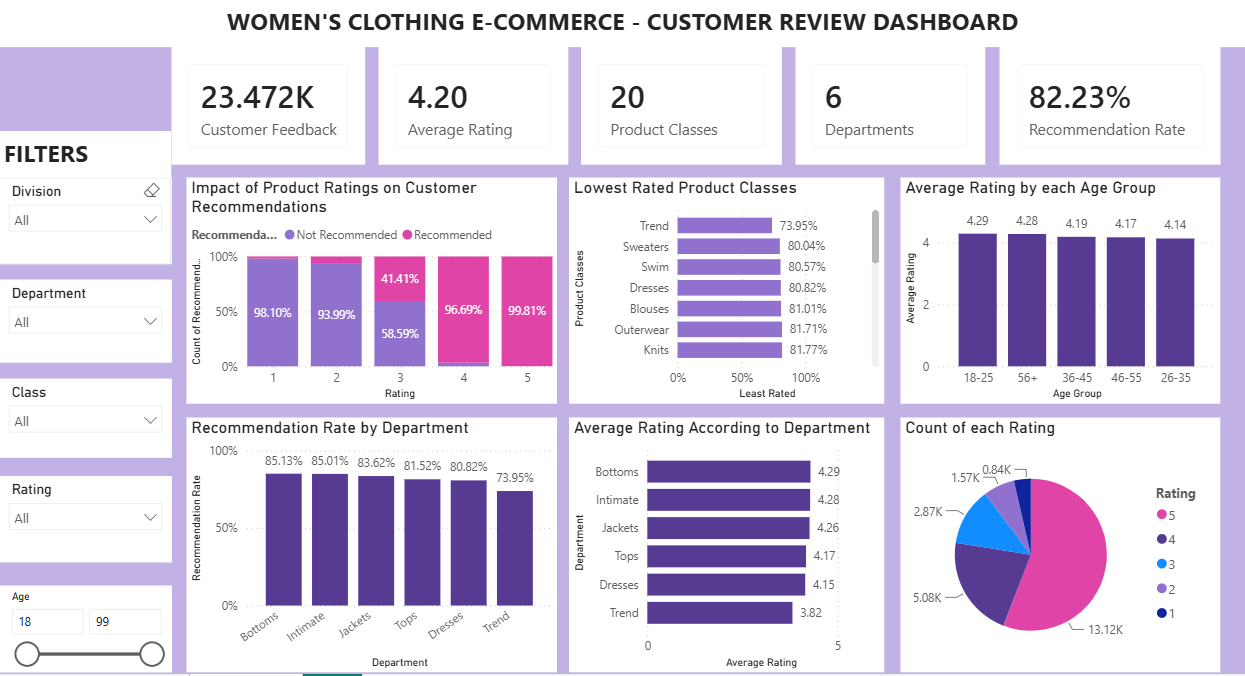

This screenshot's page, from the dashboard's own definition file:
{"tool":"powerbi","page":{"name":"Page 1","canvas":[1280,720],"ordinal":0},"visuals":[{"type":"textbox","box":[0,0,1279.4,49.1],"z":0},{"type":"cardVisual","fields":{"Data":["CLEANED DATA.Recommendation Rate"]},"box":[1026.1,49.1,226.8,120.9],"z":1000},{"type":"cardVisual","fields":{"Data":["Count(CLEANED DATA.S/N)"]},"box":[177.6,49.1,198.4,120.9],"z":2000},{"type":"cardVisual","fields":{"Data":["Count(CLEANED DATA.Department )"]},"box":[816.4,49.1,194.6,120.9],"z":3000},{"type":"cardVisual","fields":{"Data":["Avg(CLEANED DATA.Rating)"]},"box":[389.3,49.1,194.6,120.9],"z":4000},{"type":"cardVisual","fields":{"Data":["Count(CLEANED DATA.Class)"]},"box":[597.2,49.1,206,120.9],"z":5000},{"type":"slicer","fields":{"Values":["CLEANED DATA.Division"]},"box":[0,183.3,177.6,88.8],"z":6000},{"type":"slicer","fields":{"Values":["CLEANED DATA.Department "]},"box":[0,287.2,177.6,85],"z":7000},{"type":"slicer","fields":{"Values":["CLEANED DATA.Class"]},"box":[0,389.3,177.6,81.3],"z":8000},{"type":"slicer","fields":{"Values":["CLEANED DATA.Rating"]},"box":[0,489.5,177.6,88.8],"z":9000},{"type":"slicer","fields":{"Values":["CLEANED DATA.Age"]},"box":[0,600.9,177.6,88.8],"z":10000},{"type":"clusteredBarChart","title":"Average Rating According to Department ","fields":{"Y":["Avg(CLEANED DATA.Rating)"],"Category":["CLEANED DATA.Department "]},"box":[584.6,429.2,323.1,261.5],"z":11000},{"type":"clusteredColumnChart","title":"Average Rating by each Age Group","fields":{"Category":["CLEANED DATA.Age Group"],"Y":["Avg(CLEANED DATA.Rating)"]},"box":[924.6,183.1,327.7,232.3],"z":12000},{"type":"pieChart","title":"Count of each Rating","fields":{"Category":["CLEANED DATA.Rating"],"Y":["CountNonNull(CLEANED DATA.Rating)"]},"box":[924.6,429.2,327.7,261.5],"z":13000},{"type":"clusteredBarChart","title":"Lowest Rated Product Classes","fields":{"Category":["CLEANED DATA.Class"],"Y":["CLEANED DATA.Recommendation Rate"]},"box":[584.6,183.1,323.1,232.3],"z":14000},{"type":"hundredPercentStackedColumnChart","title":"Impact of Product Ratings on Customer Recommendations","fields":{"Category":["CLEANED DATA.Rating"],"Y":["CountNonNull(CLEANED DATA.Recommended Index)"],"Series":["CLEANED DATA.Recommendation Status"]},"box":[192.3,183.1,380,232.3],"z":15000},{"type":"clusteredColumnChart","fields":{"Y":["CLEANED DATA.Recommendation Rate"],"Category":["CLEANED DATA.Department "]},"box":[192.3,429.2,380,261.5],"z":15001},{"type":"textbox","box":[0,135.4,176.9,47.7],"z":15002}]}

Visuals, with their boxes on the page's 1280x720 design canvas (x1, y1, x2, y2). These are canvas units, not pixel positions in the 1245x676 screenshot, which may show the page scaled, cropped or inside an application window:
textbox: <box>0,0,1279,49</box>
cardVisual - CLEANED DATA.Recommendation Rate: <box>1026,49,1253,170</box>
cardVisual - Count(CLEANED DATA.S/N): <box>178,49,376,170</box>
cardVisual - Count(CLEANED DATA.Department ): <box>816,49,1011,170</box>
cardVisual - Avg(CLEANED DATA.Rating): <box>389,49,584,170</box>
cardVisual - Count(CLEANED DATA.Class): <box>597,49,803,170</box>
slicer - CLEANED DATA.Division: <box>0,183,178,272</box>
slicer - CLEANED DATA.Department : <box>0,287,178,372</box>
slicer - CLEANED DATA.Class: <box>0,389,178,471</box>
slicer - CLEANED DATA.Rating: <box>0,490,178,578</box>
slicer - CLEANED DATA.Age: <box>0,601,178,690</box>
"Average Rating According to Department " clusteredBarChart: <box>585,429,908,691</box>
"Average Rating by each Age Group" clusteredColumnChart: <box>925,183,1252,415</box>
"Count of each Rating" pieChart: <box>925,429,1252,691</box>
"Lowest Rated Product Classes" clusteredBarChart: <box>585,183,908,415</box>
"Impact of Product Ratings on Customer Recommendations" hundredPercentStackedColumnChart: <box>192,183,572,415</box>
clusteredColumnChart - CLEANED DATA.Recommendation Rate x CLEANED DATA.Department : <box>192,429,572,691</box>
textbox: <box>0,135,177,183</box>
